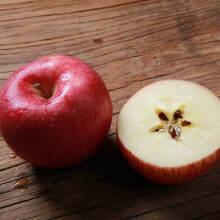apple: (1, 56, 113, 172), (117, 75, 220, 175)
